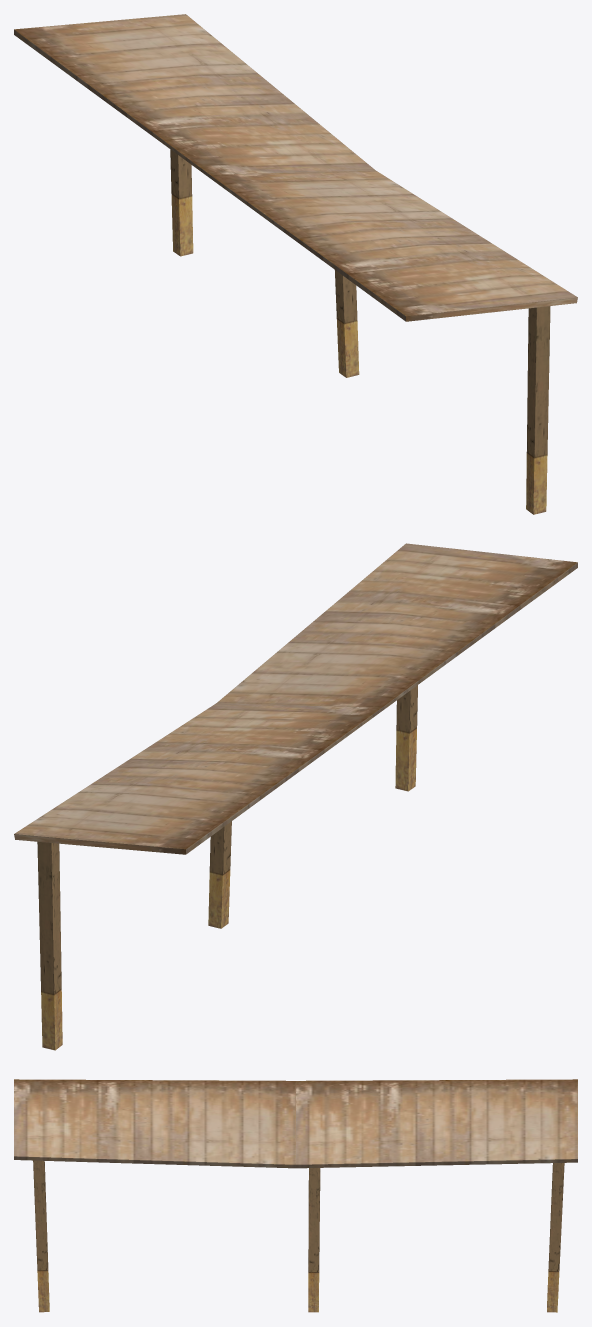
The model's file is house1_roof.fbx.
The picture shows the model from 3 angles, top to bottom: view 1: azimuth 30°, elevation 25°; view 2: azimuth 150°, elevation 25°; view 3: azimuth 270°, elevation 25°; orthographic projection. The views are drawn at different scales.
Parts seen in each view (by area): view 1: house01_roof; view 2: house01_roof; view 3: house01_roof.
Boxes of the visible parts, bbox=[...] form: house01_roof: bbox=[14, 14, 577, 514]; house01_roof: bbox=[14, 543, 577, 1050]; house01_roof: bbox=[14, 1079, 577, 1312].
Bounding box in the file's own units: 202 × 278 × 799.
Materials: 1 (1 with a texture image).
